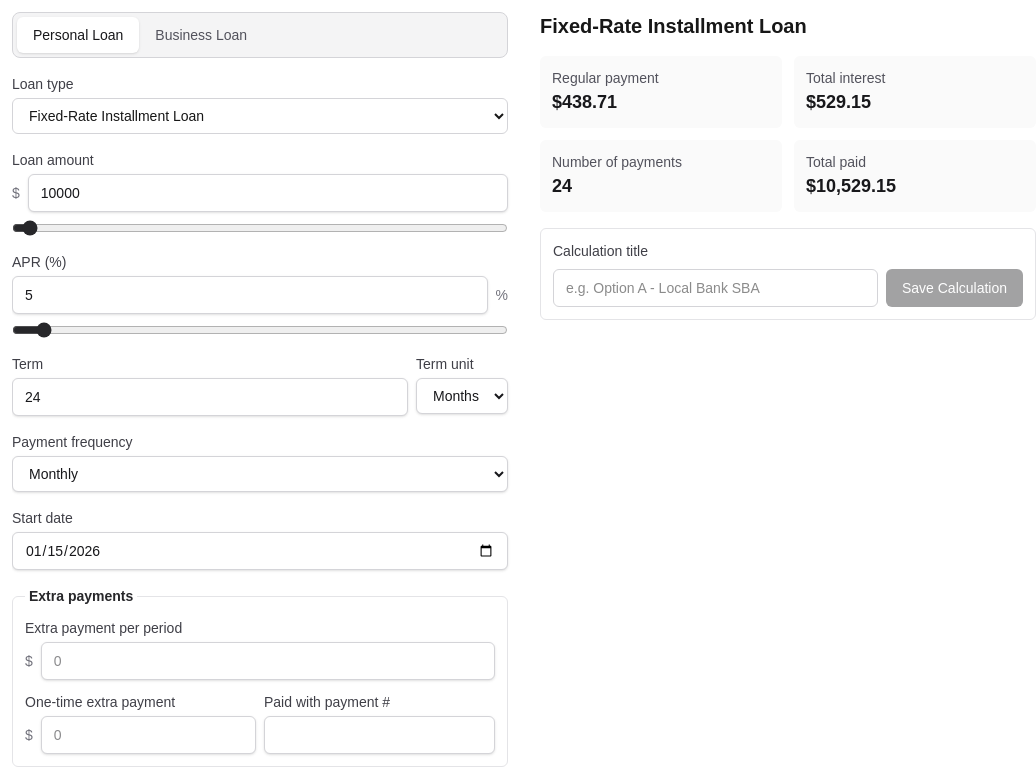
Test: Calculator form (REQ-UI-003, REQ-NFR-CODE2) › switches an MCA to a revenue-share repayment
Click the radio button labelled "Business Loan": (201, 35) [139, 17, 263, 53]
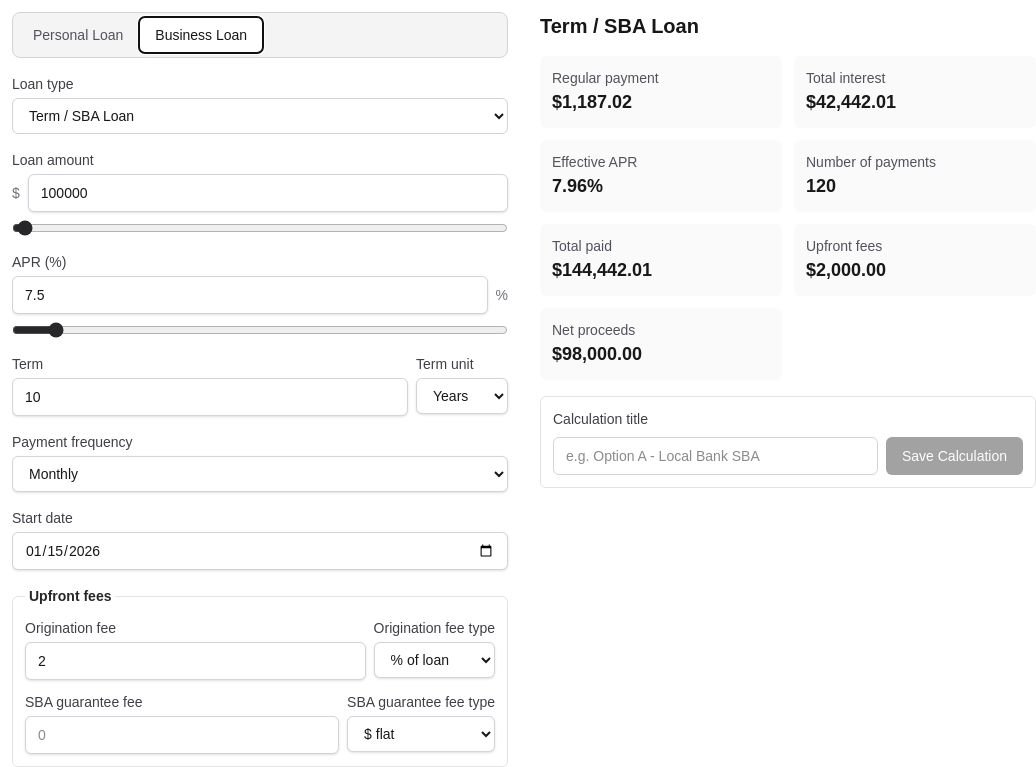
Select "Merchant Cash Advance" in the dropdown labelled "Loan type": (260, 116) [12, 98, 508, 134]
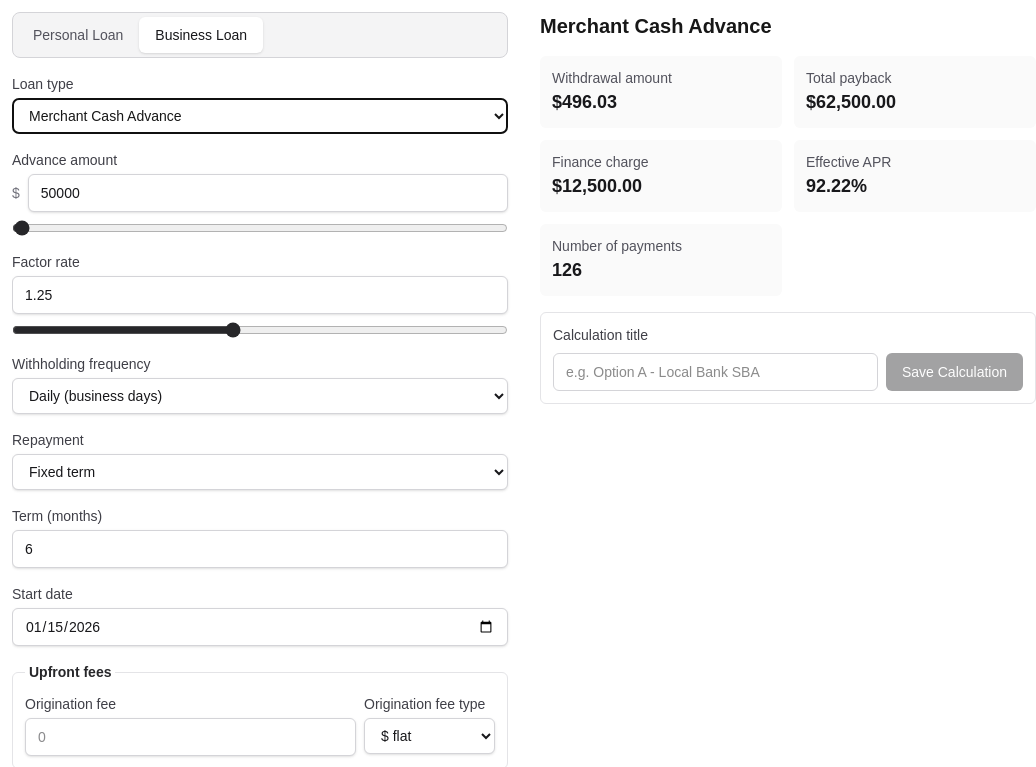
Select "Share of revenue" in the dropdown labelled "Repayment": (260, 472) [12, 454, 508, 490]
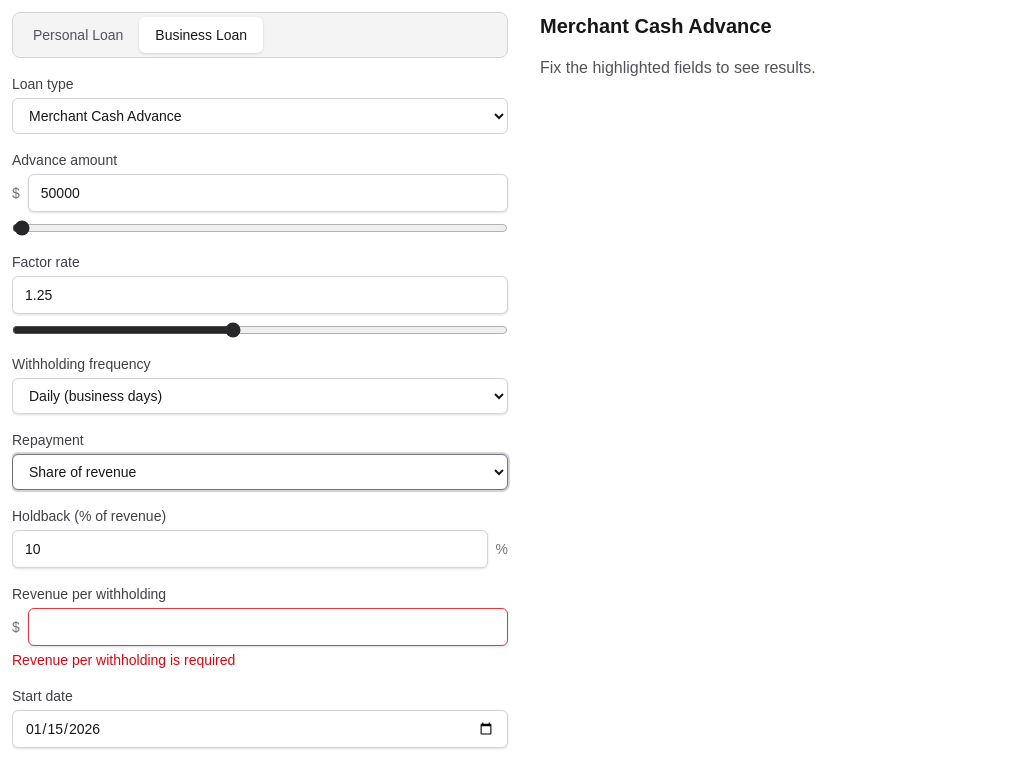
Expected: the label labelled "Term (months)" is gone
In the field labelled "Revenue per withholding": (268, 627) [28, 608, 508, 646], type "5000"
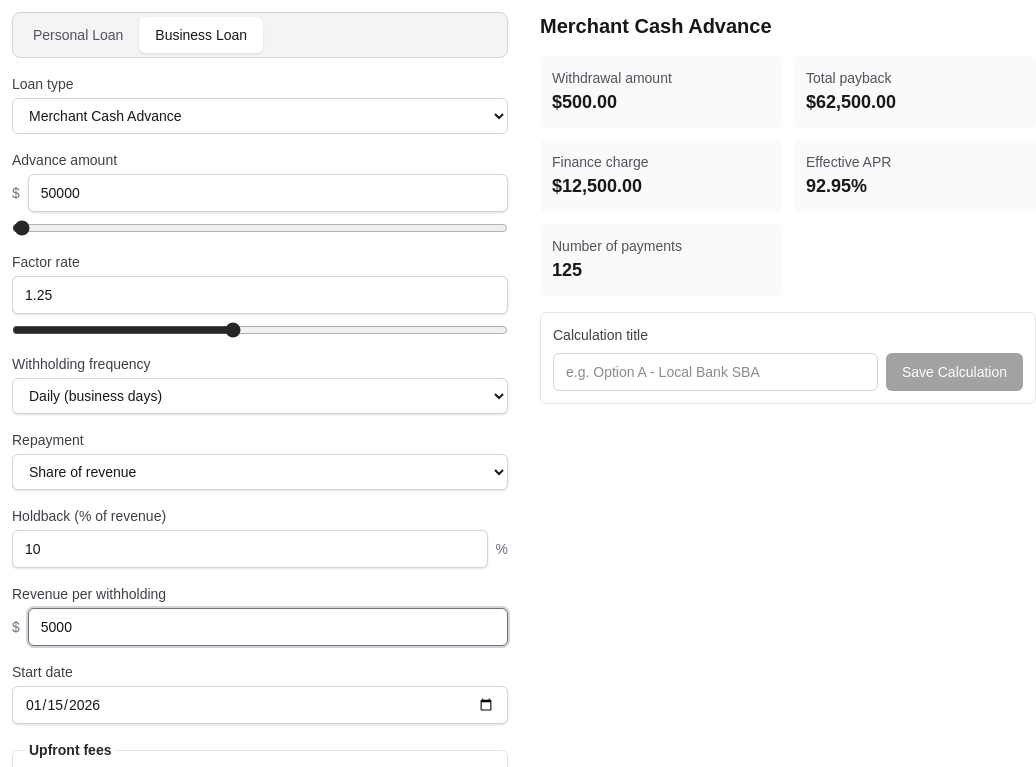
Expected: the text "$500.00" is shown, [552, 92, 617, 112]
